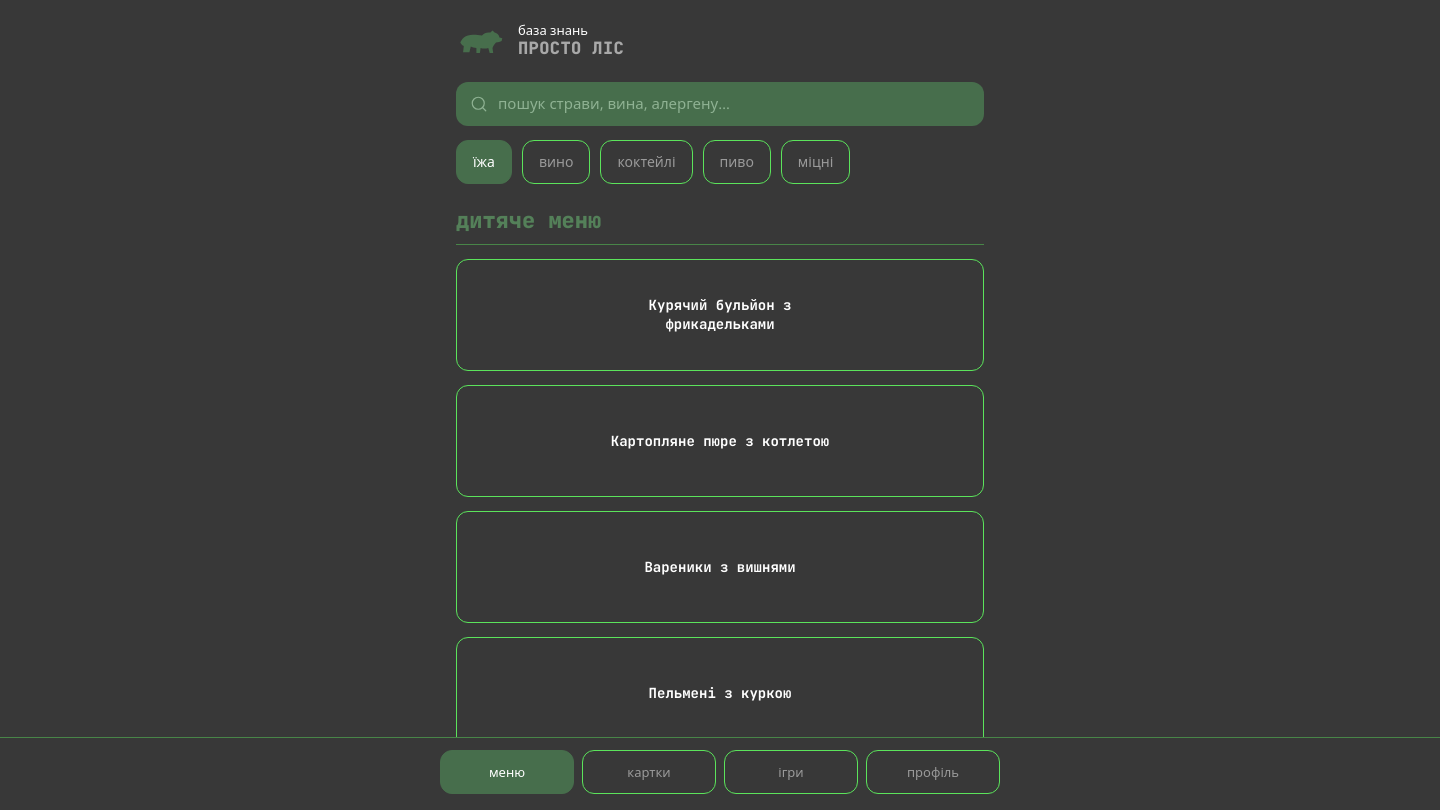
it: MenuListView (mobile) › says so when nothing matches, and restores the menu when cleared
Type "піца" into the search field.
click(734, 104); type("піца")  # box [498, 82, 970, 125]
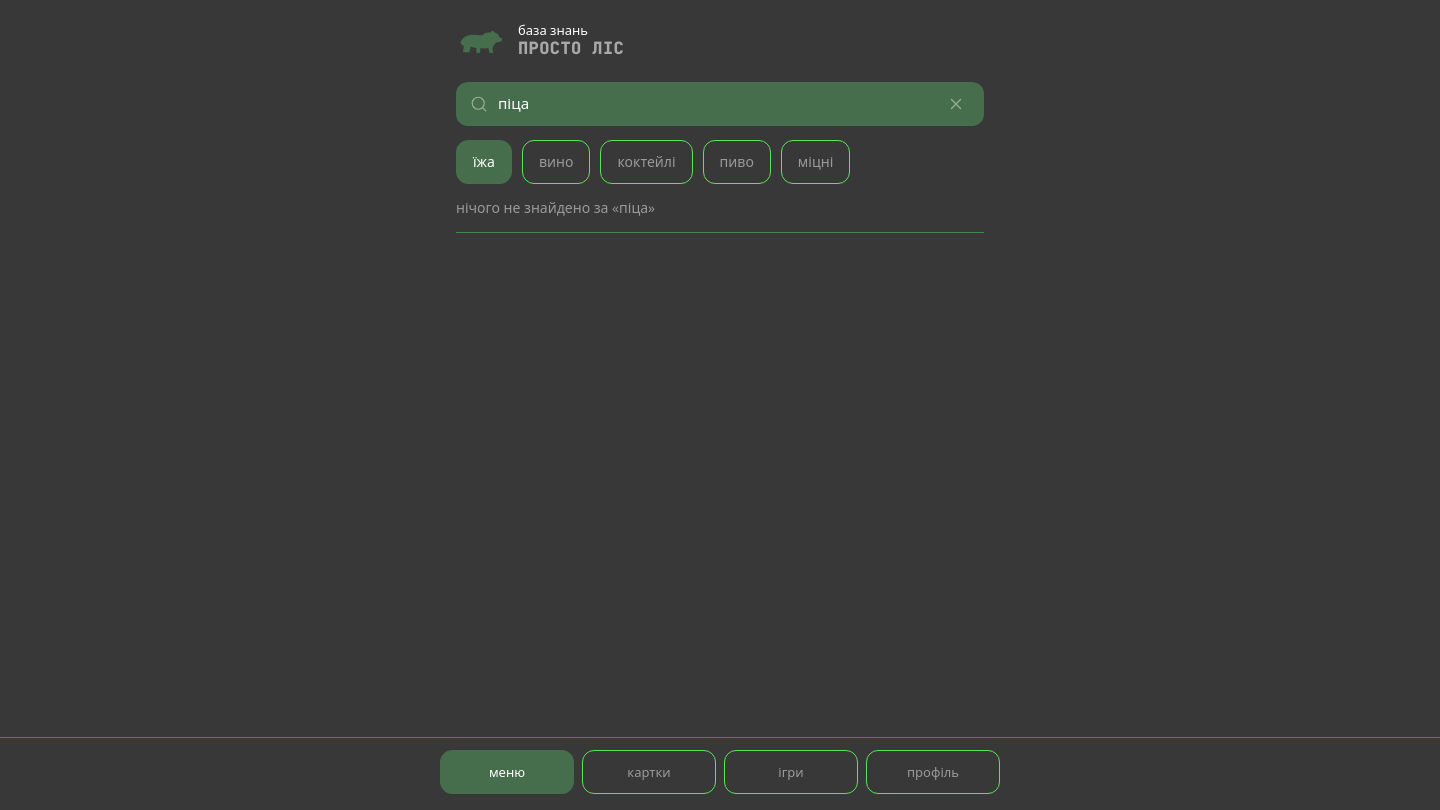
Expected: the text "нічого не знайдено за «піца»" is shown, [456, 198, 655, 216]
Click the button named "очистити пошук".
click(956, 104)  # box [934, 82, 978, 126]
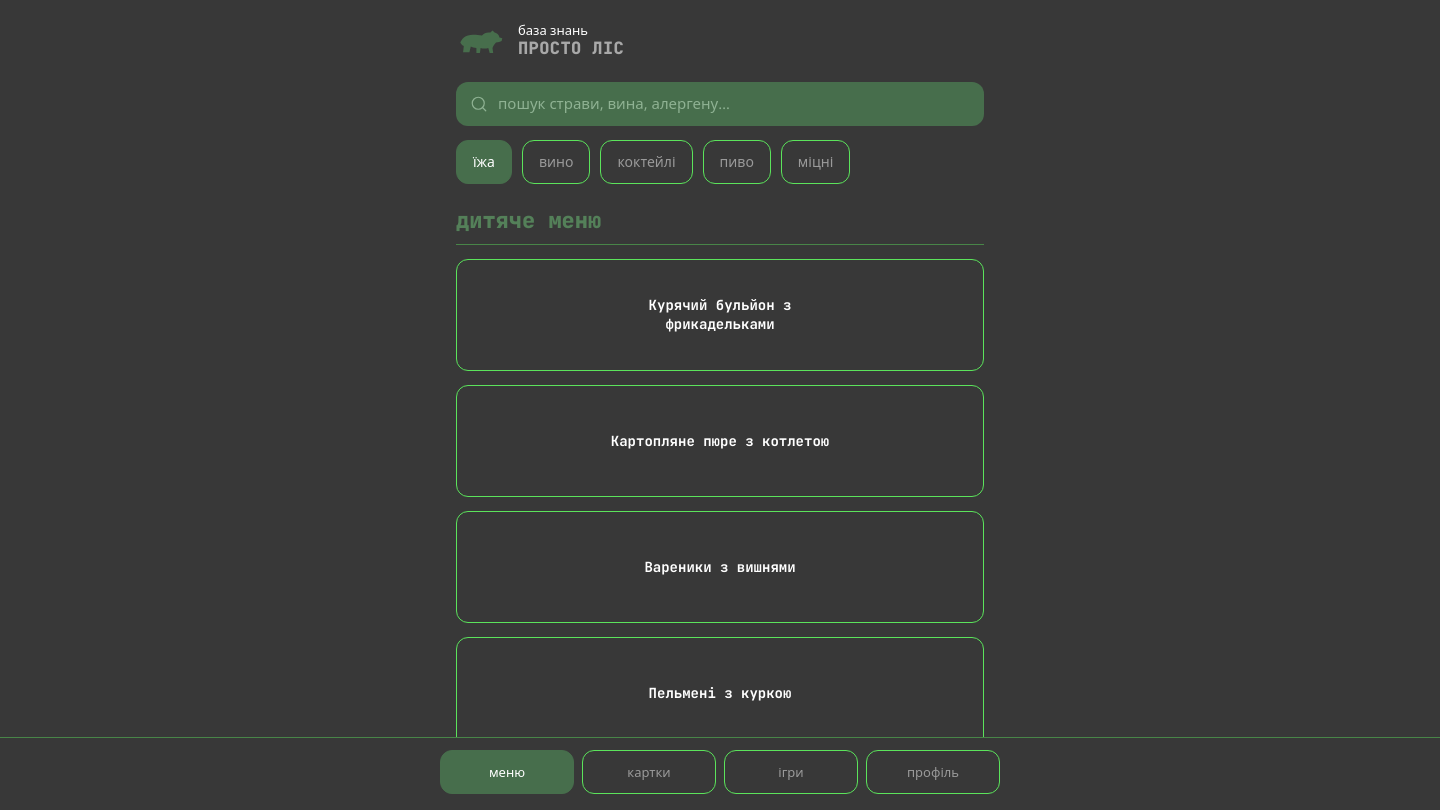
Expected: the heading "дитяче меню" is shown, [456, 206, 984, 245]
